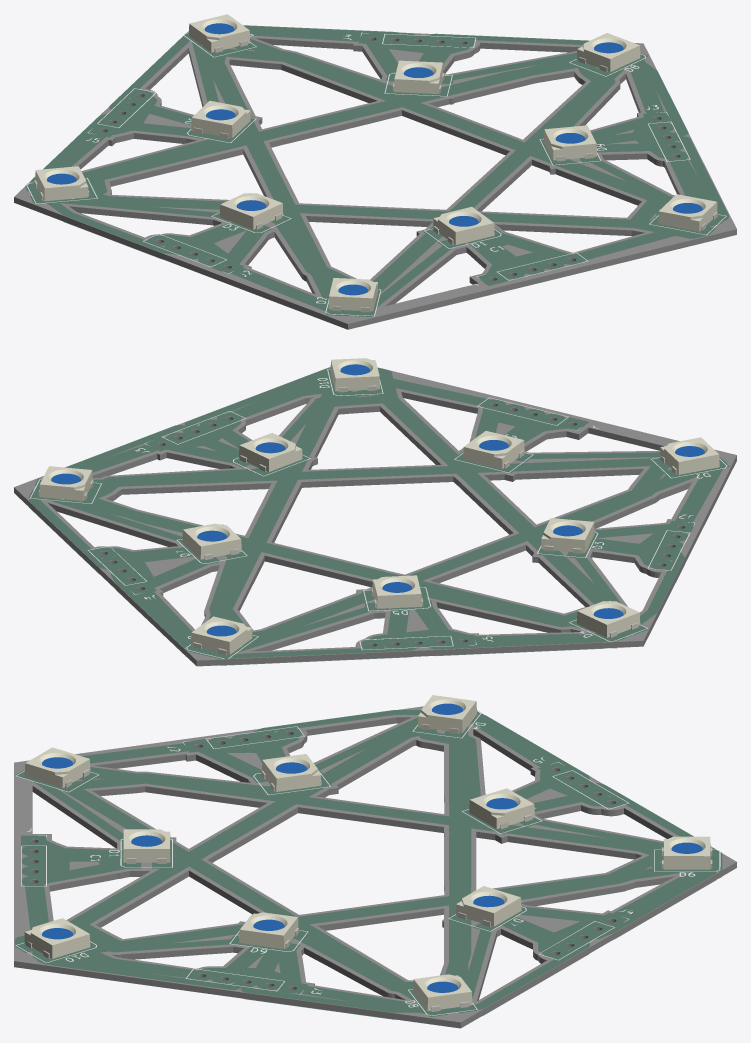
The picture shows the model from 3 angles, top to bottom: view 1: azimuth 30°, elevation 25°; view 2: azimuth 150°, elevation 25°; view 3: azimuth 270°, elevation 25°; orthographic projection. The views are drawn at different scales.
Parts seen in each view (by area): view 1: =>[0:1:1:5], =>[0:1:1:4], =>[0:1:1:3], D8, D3, D6, D1, D10, D5, D4, D9, D7 (+1 smaller); view 2: =>[0:1:1:5], =>[0:1:1:4], =>[0:1:1:3], D9, D4, D1, D6, D7, D2, D8, D3, D5 (+1 smaller); view 3: =>[0:1:1:5], =>[0:1:1:4], =>[0:1:1:3], D5, D2, D10, D7, D3, D4, D9, D8, D6 (+1 smaller).
Part boxes in pixels (bbox=[...]): =>[0:1:1:5]: bbox=[14, 26, 736, 329]; =>[0:1:1:4]: bbox=[21, 25, 729, 316]; =>[0:1:1:3]: bbox=[26, 32, 726, 316]; D8: bbox=[577, 33, 640, 72]; D3: bbox=[219, 193, 283, 229]; D6: bbox=[189, 14, 250, 52]; D1: bbox=[433, 206, 494, 244]; D10: bbox=[658, 194, 717, 231]; D5: bbox=[191, 100, 250, 138]; D4: bbox=[34, 166, 89, 201]; D9: bbox=[544, 125, 596, 161]; D7: bbox=[392, 60, 444, 93]; =>[0:1:1:5]: bbox=[14, 367, 736, 666]; =>[0:1:1:4]: bbox=[28, 367, 729, 665]; =>[0:1:1:3]: bbox=[30, 369, 727, 658]; D9: bbox=[239, 433, 302, 471]; D4: bbox=[577, 601, 640, 637]; D1: bbox=[463, 431, 524, 468]; D6: bbox=[191, 616, 252, 655]; D7: bbox=[182, 523, 241, 560]; D2: bbox=[660, 437, 719, 474]; D8: bbox=[38, 466, 93, 501]; D3: bbox=[541, 518, 594, 553]; D5: bbox=[371, 575, 423, 608]; =>[0:1:1:5]: bbox=[14, 706, 736, 1028]; =>[0:1:1:4]: bbox=[14, 710, 722, 1019]; =>[0:1:1:3]: bbox=[15, 711, 720, 1015]; D5: bbox=[469, 788, 534, 829]; D2: bbox=[24, 747, 90, 787]; D10: bbox=[24, 918, 90, 958]; D7: bbox=[456, 886, 521, 926]; D3: bbox=[261, 754, 321, 791]; D4: bbox=[418, 695, 476, 733]; D9: bbox=[239, 912, 298, 949]; D8: bbox=[413, 974, 472, 1011]; D6: bbox=[662, 836, 712, 869].
Size of the model in its own units: 0.0809 by 0.00257 by 0.0769.
